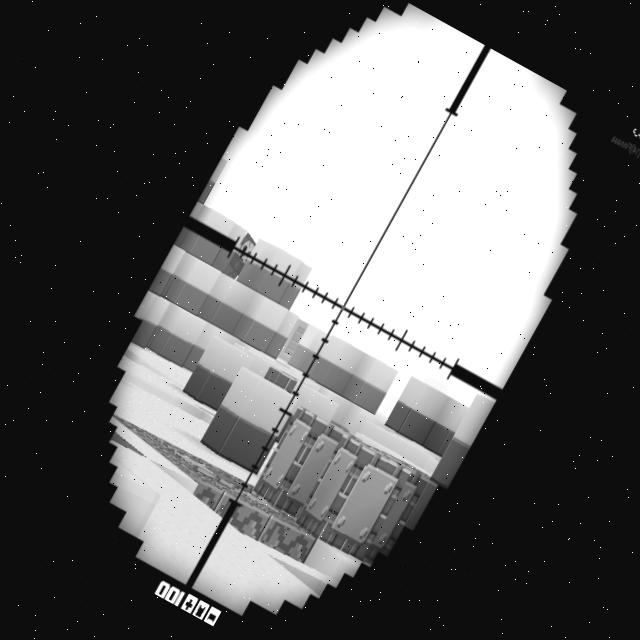Head: (234, 232, 259, 262)
Player: (222, 228, 261, 282)
